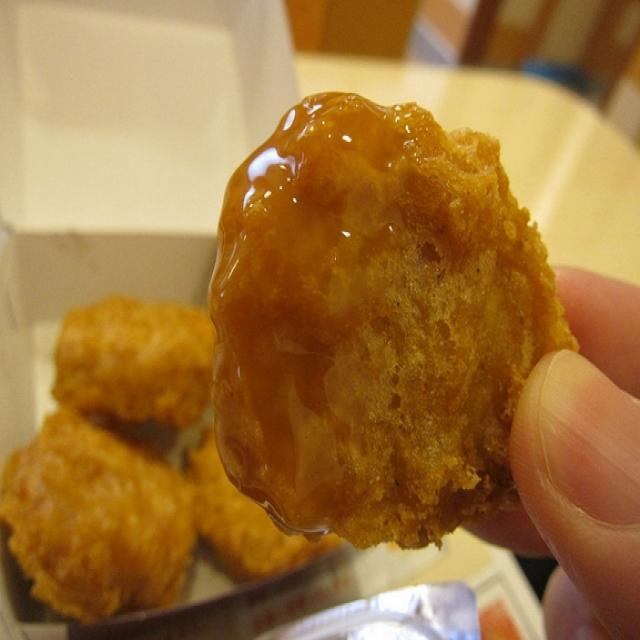Chicken nugget: (8, 93, 570, 623)
